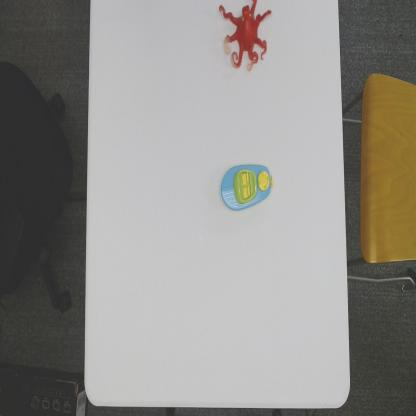Boat: (219, 162, 275, 213)
Octopus: (218, 0, 272, 73)
